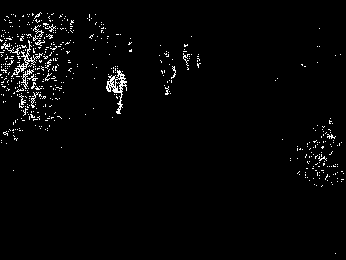person: (106, 67, 128, 116), (158, 44, 176, 97)
